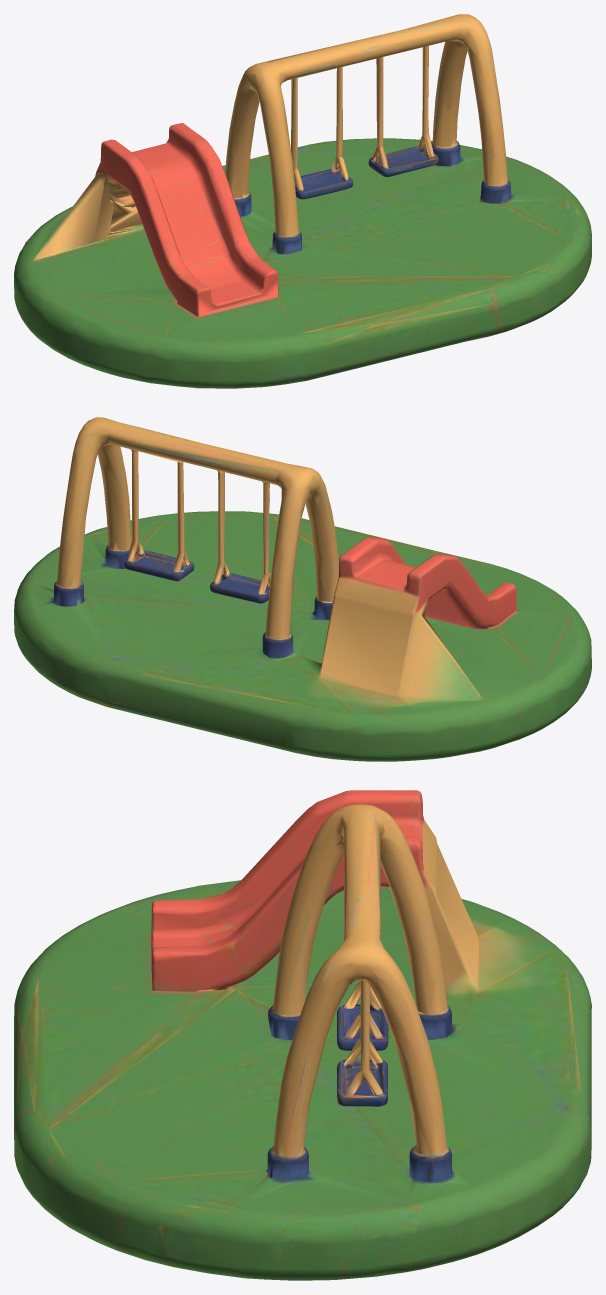
File: playground-park-512.glb
3 views of the same model, one above another, from view 1: azimuth 30°, elevation 25°; view 2: azimuth 150°, elevation 25°; view 3: azimuth 270°, elevation 25° (orthographic). The views are drawn at different scales.
Size of the model in its own units: 1.9 by 0.7348 by 1.31.
1 material, 1 textured.
